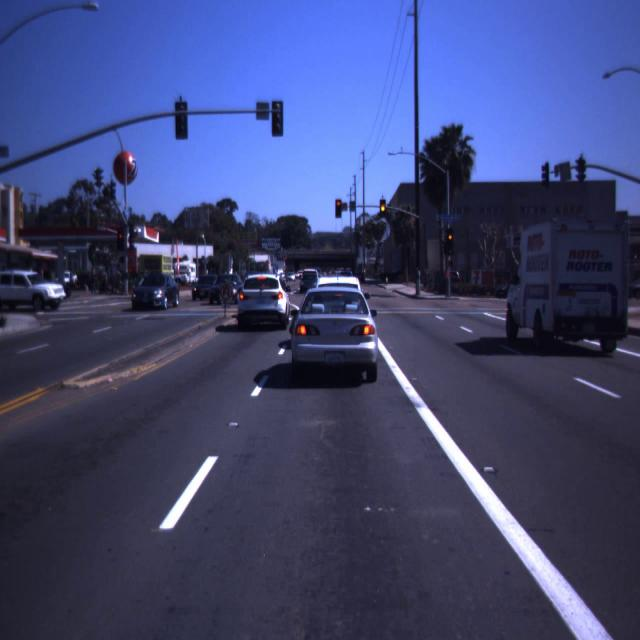arka_lamba: (175, 102, 188, 140), (272, 101, 283, 137)
kirmizi: (335, 199, 342, 218)
sari: (380, 200, 386, 218), (447, 228, 453, 246)
